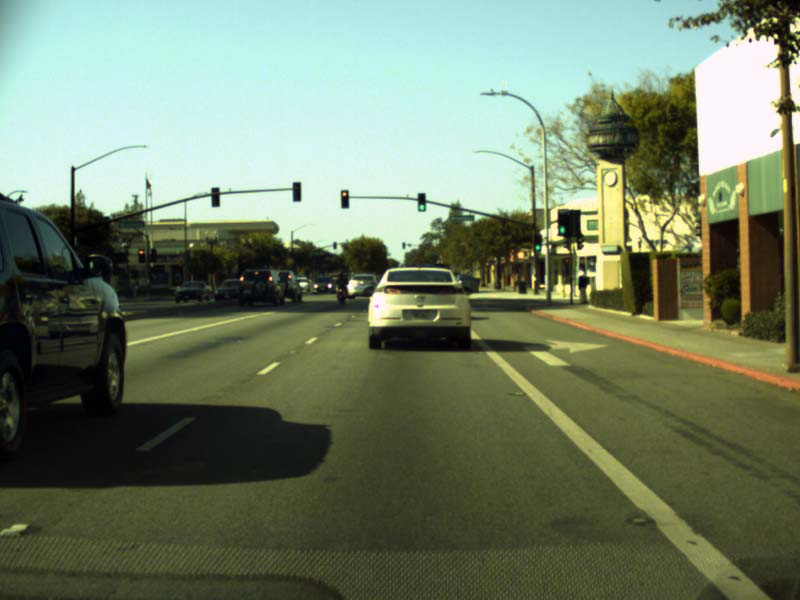Green: (558, 208, 570, 236), (417, 192, 426, 211), (533, 234, 541, 252)
Red: (340, 190, 349, 208), (139, 249, 145, 263)
